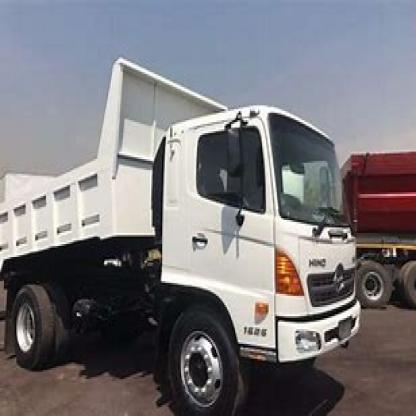dump_truck: (0, 53, 363, 412)
